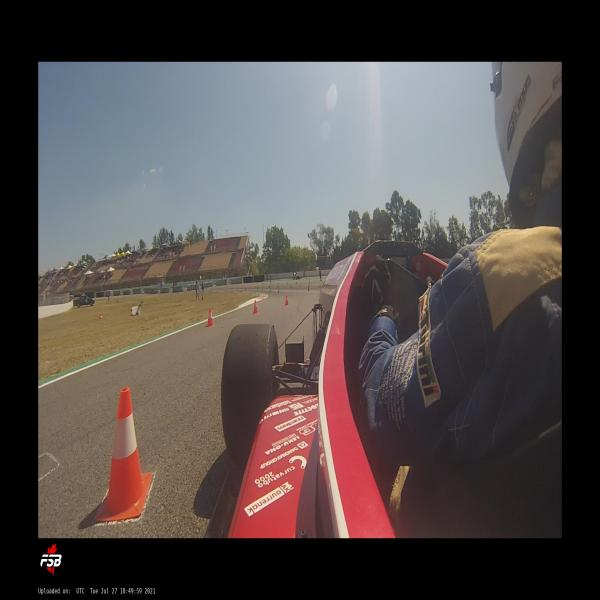orange_cone: (95, 387, 153, 522), (205, 308, 215, 327), (252, 300, 259, 315), (284, 295, 289, 306), (99, 314, 102, 318)
